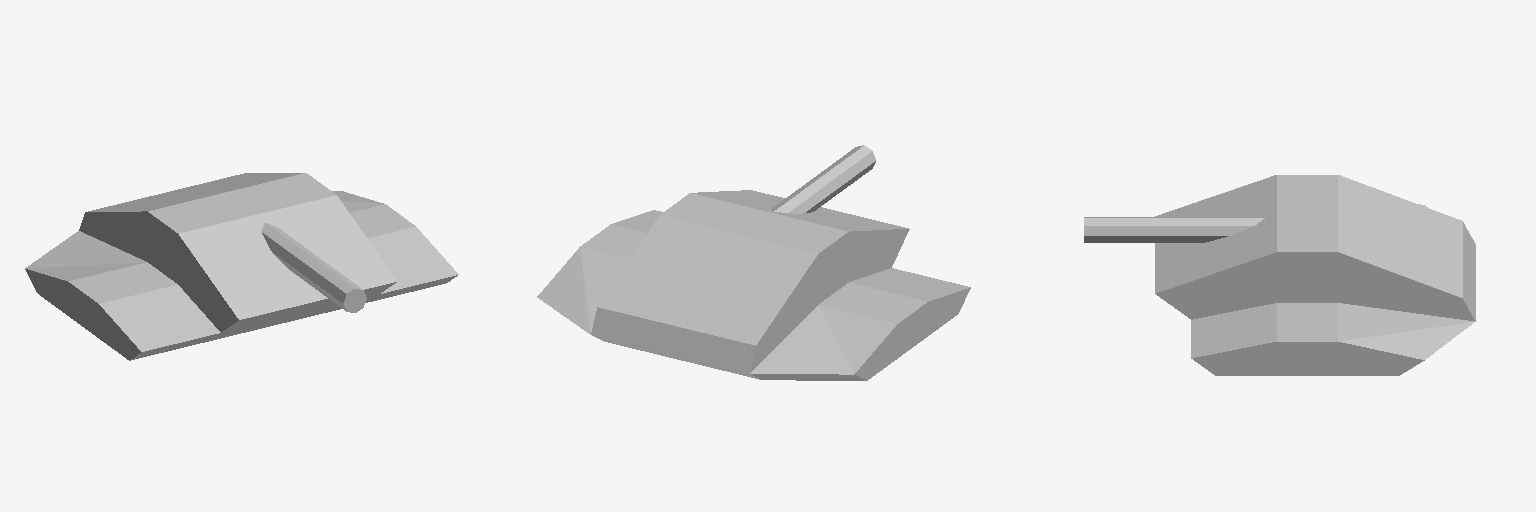
The model's file is Tank1.obj.
The picture shows the model from 3 angles: view 1: azimuth 30°, elevation 25°; view 2: azimuth 150°, elevation 25°; view 3: azimuth 270°, elevation 25°; orthographic projection.
Parts seen in each view (by area): view 1: Box13; view 2: Box13; view 3: Box13.
Boxes of the visible parts, x1=… form: Box13: x1=25, y1=173, x2=458, y2=360; Box13: x1=537, y1=145, x2=970, y2=380; Box13: x1=1084, y1=175, x2=1475, y2=375.
Bounding box in the file's own units: 4 × 1.03 × 4.27.